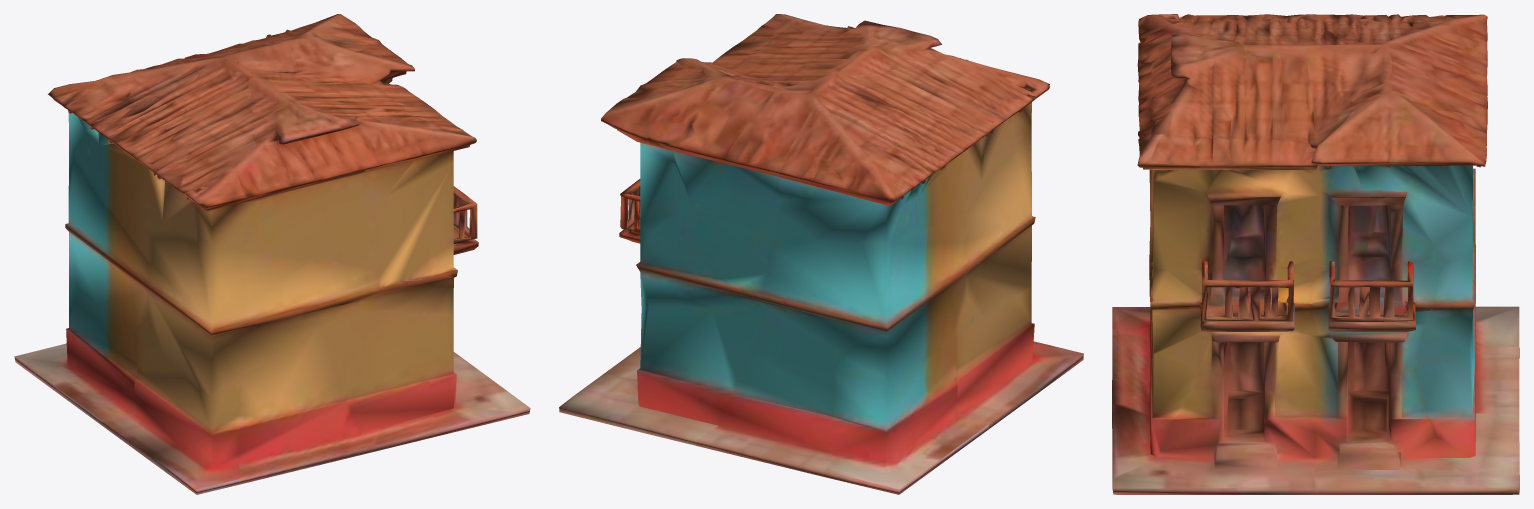
The model's file is pueblo-house.glb.
3 renders of one model, left to right at view 1: azimuth 30°, elevation 25°; view 2: azimuth 150°, elevation 25°; view 3: azimuth 270°, elevation 25°, orthographic. The views are drawn at different scales.
Visible parts, largest first — view 1: tripo_node_d1c77706-d12c-4d83-809a-107d314b0edb; view 2: tripo_node_d1c77706-d12c-4d83-809a-107d314b0edb; view 3: tripo_node_d1c77706-d12c-4d83-809a-107d314b0edb.
Boxes of the visible parts, left/top/right/bottom form: tripo_node_d1c77706-d12c-4d83-809a-107d314b0edb: left=14, top=14, right=530, bottom=494; tripo_node_d1c77706-d12c-4d83-809a-107d314b0edb: left=559, top=14, right=1083, bottom=494; tripo_node_d1c77706-d12c-4d83-809a-107d314b0edb: left=1112, top=14, right=1519, bottom=494.
Bounding box in the file's own units: 0.9996 × 0.8937 × 0.9449.
Materials: 1 (1 with a texture image).
